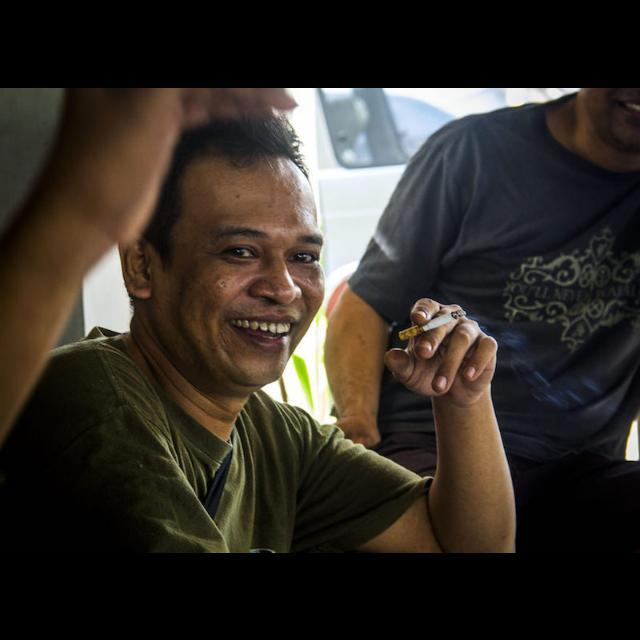rokok: (397, 308, 468, 342)
